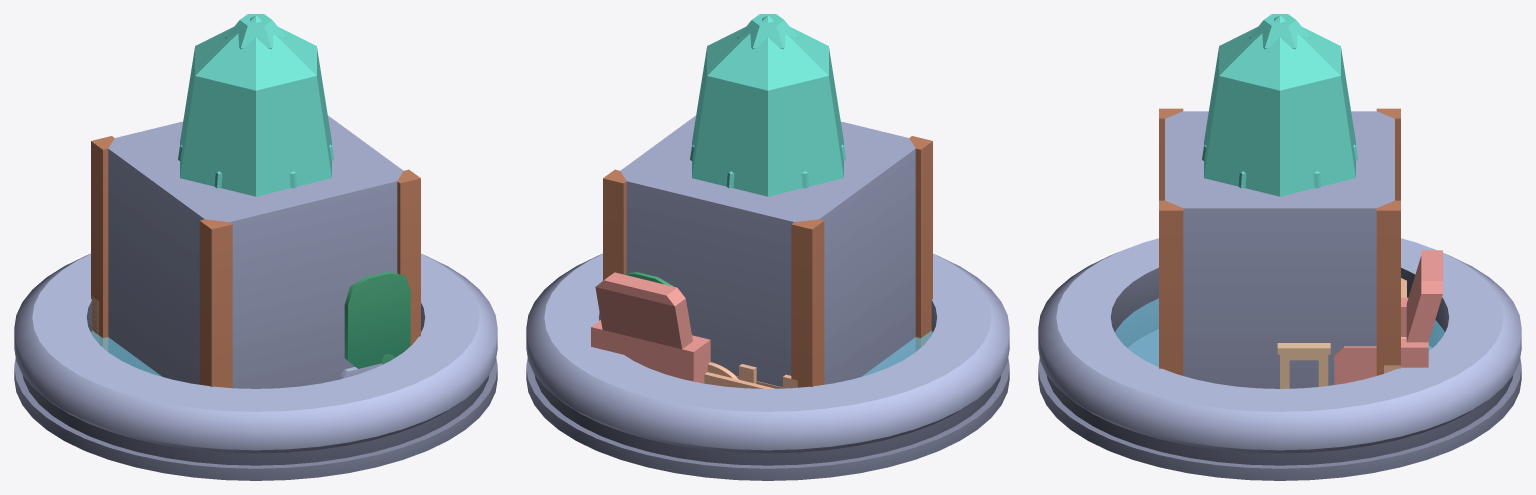
File: props.glb
3 views of the same model, side by side, from view 1: azimuth 30°, elevation 25°; view 2: azimuth 150°, elevation 25°; view 3: azimuth 270°, elevation 25° (orthographic).
Parts seen in each view (by area): view 1: wall_stone, fountain, tree_default, hedge_large, tree_tall; view 2: wall_stone, fountain, tree_default, lounge_chair, tree_tall, fence_planks, fence_gate; view 3: fountain, wall_stone, tree_default, lounge_chair, side_table, tree_tall.
Part boxes in pixels (box(x1,y1,x2,y2)): wall_stone: box(91, 115, 420, 388); fountain: box(14, 253, 497, 480); tree_default: box(180, 15, 331, 196); hedge_large: box(336, 272, 410, 380); tree_tall: box(225, 14, 286, 49); wall_stone: box(603, 115, 932, 387); fountain: box(526, 253, 1009, 480); tree_default: box(692, 15, 843, 196); lounge_chair: box(591, 272, 710, 383); tree_tall: box(737, 14, 798, 49); fence_planks: box(704, 372, 797, 388); fence_gate: box(707, 362, 782, 388); fountain: box(1038, 238, 1521, 480); wall_stone: box(1159, 108, 1400, 388); tree_default: box(1204, 15, 1355, 196); lounge_chair: box(1334, 250, 1442, 384); side_table: box(1277, 343, 1330, 388); tree_tall: box(1249, 14, 1310, 49).
Bounding box in the file's own units: 2 × 1.71 × 2.
61 materials, 8 textured.
